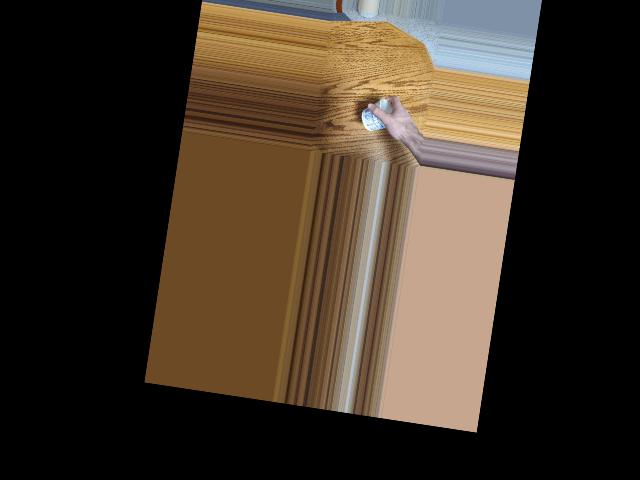cotage: (358, 94, 393, 137)
